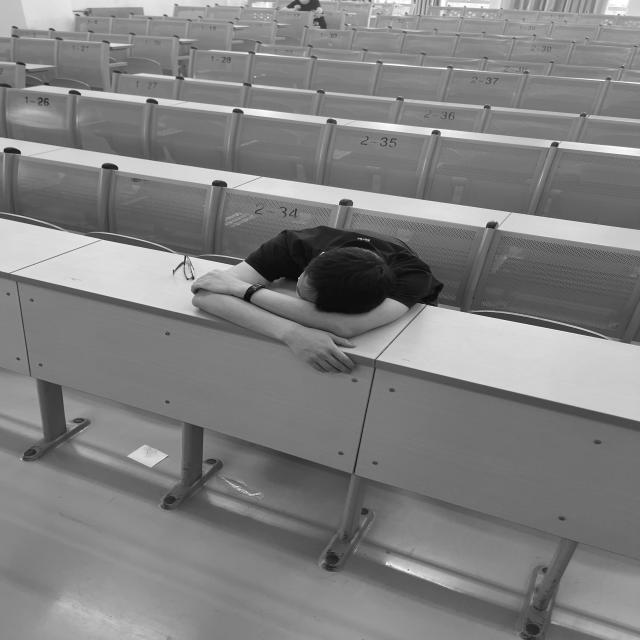sleep: (192, 230, 441, 373)
